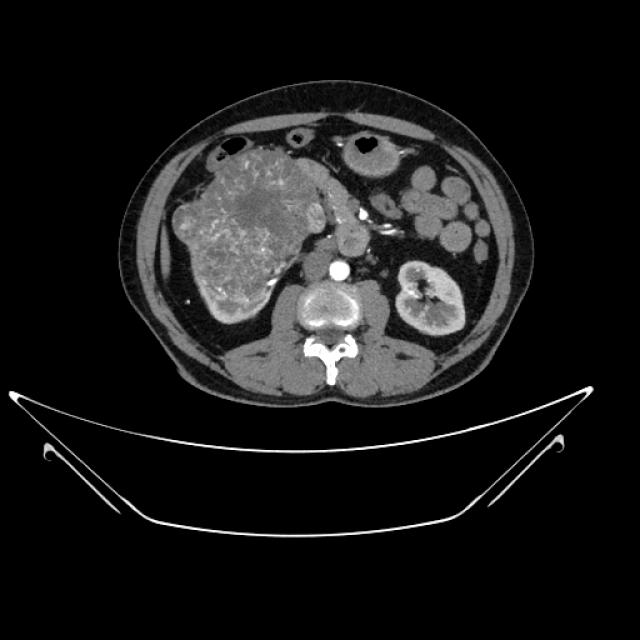Tumor: (188, 138, 342, 307)
